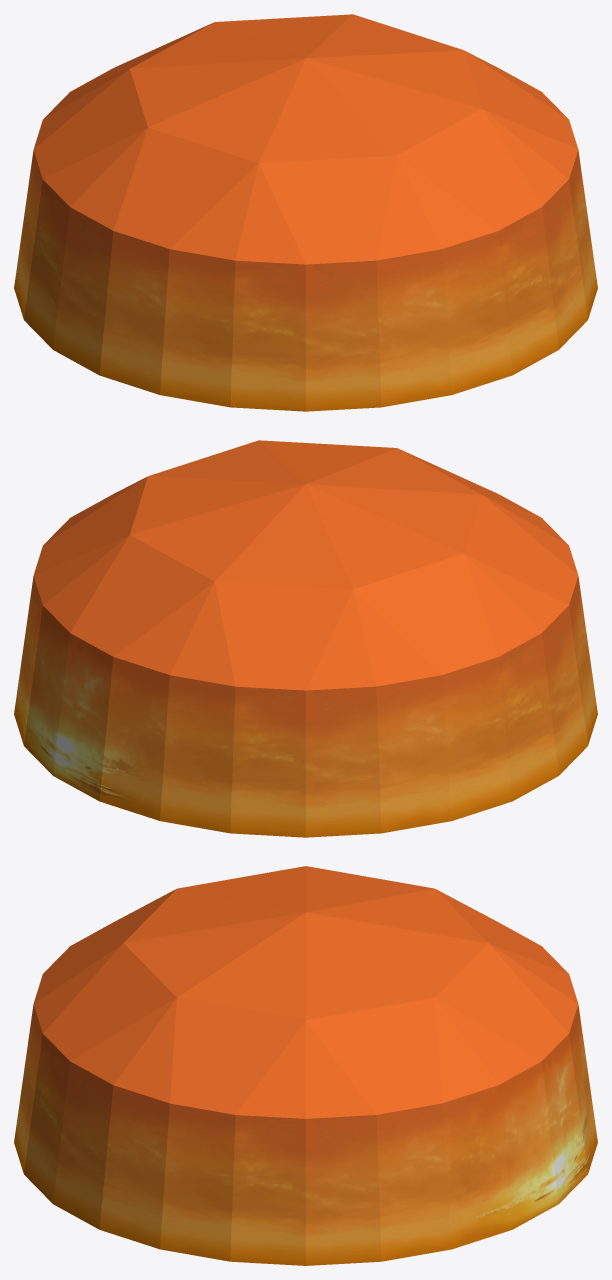
File: Skybox2.obj
3 renders of one model, top to bottom at view 1: azimuth 30°, elevation 25°; view 2: azimuth 150°, elevation 25°; view 3: azimuth 270°, elevation 25°, orthographic.
Parts seen in each view (by area): view 1: obj1; view 2: obj1; view 3: obj1.
Boxes of the visible parts, <box> form: obj1: <box>14,14,597,411</box>; obj1: <box>14,440,597,837</box>; obj1: <box>14,866,597,1265</box>.
Bounding box in the file's own units: 100000 × 43630 × 100000.
Materials: 8 (8 with a texture image).
